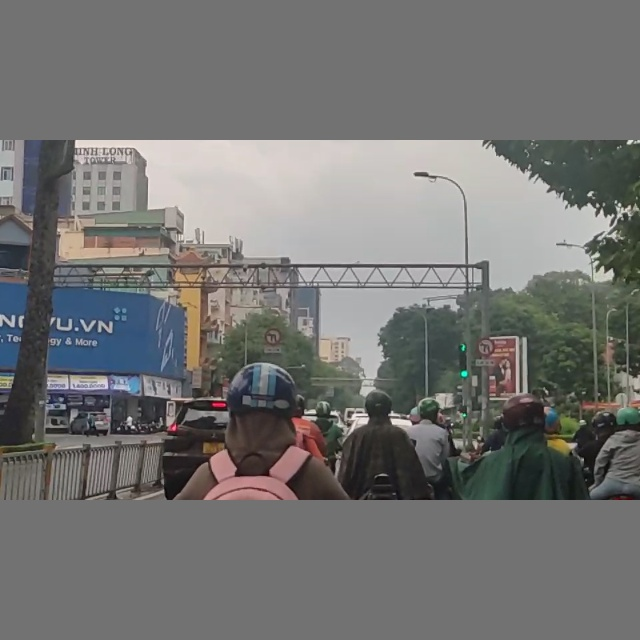P.124c: (474, 337, 497, 358), (263, 328, 281, 346)
